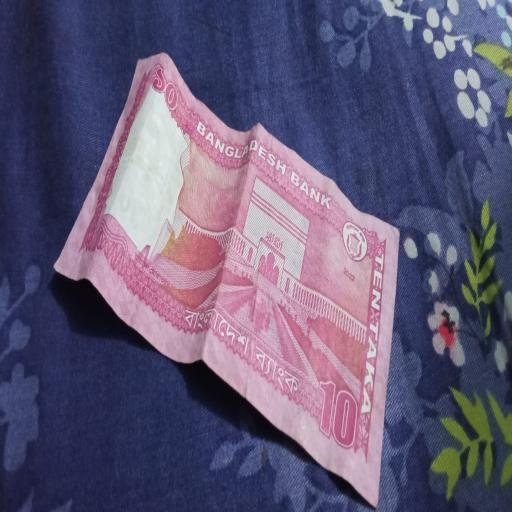10taka: (52, 61, 400, 501)
